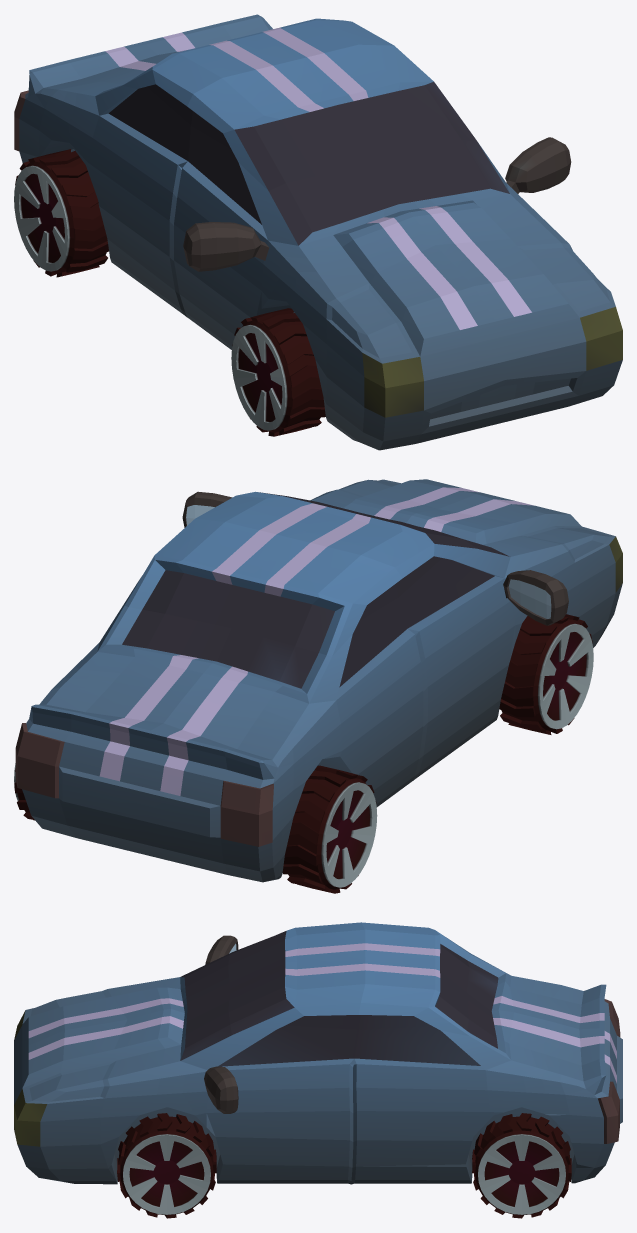
Rendered from машинка 10.fbx.
3 renders of one model, top to bottom at view 1: azimuth 30°, elevation 25°; view 2: azimuth 150°, elevation 25°; view 3: azimuth 270°, elevation 25°, orthographic. The views are drawn at different scales.
Parts seen in each view (by area): view 1: Car2.008, Cylinder.001, Cylinder, Zerk2.008; view 2: Car2.008, Cylinder.001, Cylinder, Zerk2.008; view 3: Car2.008, Cylinder.003, Cylinder.002, Zerk2.008.
Boxes of the visible parts, x1=… form: Car2.008: x1=14, y1=14, x2=622, y2=450; Cylinder.001: x1=14, y1=149, x2=108, y2=277; Cylinder: x1=231, y1=308, x2=325, y2=436; Zerk2.008: x1=183, y1=137, x2=571, y2=271; Car2.008: x1=15, y1=479, x2=622, y2=882; Cylinder.001: x1=282, y1=765, x2=377, y2=893; Cylinder: x1=499, y1=614, x2=593, y2=734; Zerk2.008: x1=182, y1=491, x2=568, y2=625; Car2.008: x1=14, y1=922, x2=622, y2=1184; Cylinder.003: x1=117, y1=1113, x2=216, y2=1218; Cylinder.002: x1=472, y1=1113, x2=571, y2=1218; Zerk2.008: x1=204, y1=935, x2=238, y2=1113.
Bounding box in the file's own units: 355 × 218 × 601.
